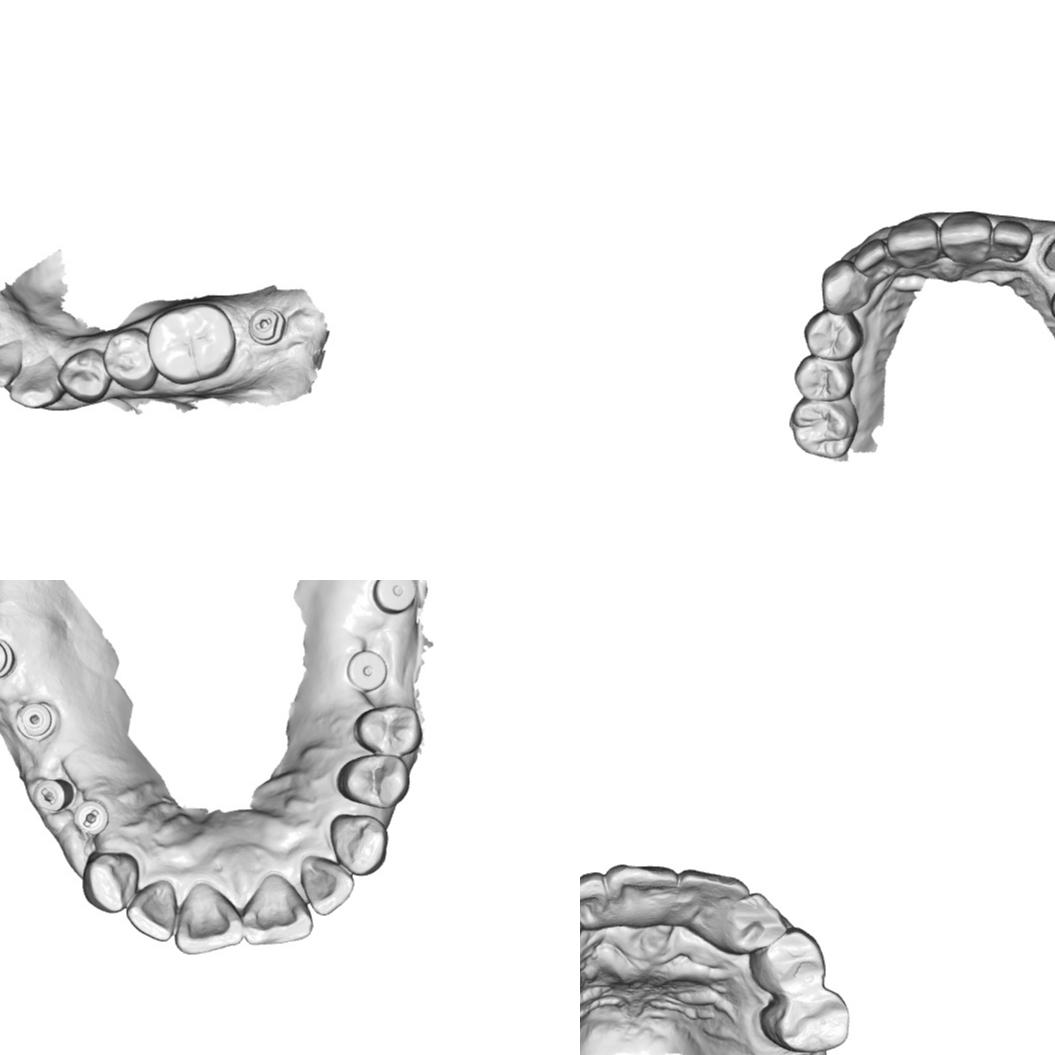canine: (751, 927, 827, 993), (327, 811, 391, 877), (80, 851, 142, 914), (7, 355, 61, 411), (820, 258, 871, 315)
crown: (1036, 230, 1055, 275)
implant: (344, 648, 390, 692), (371, 580, 417, 615), (14, 704, 56, 738), (0, 635, 19, 683)
implant_minus: (245, 304, 285, 346), (30, 776, 72, 816), (71, 798, 111, 836)
incisor: (605, 863, 680, 935), (240, 877, 313, 947), (172, 888, 243, 956), (676, 867, 750, 932), (719, 891, 787, 958), (124, 879, 181, 944), (298, 854, 355, 917), (885, 216, 942, 269), (939, 210, 992, 265), (991, 218, 1034, 264), (580, 870, 610, 932), (852, 238, 896, 280), (0, 341, 26, 389)
molar: (145, 302, 237, 386), (790, 392, 858, 460)
premolar: (757, 988, 853, 1054), (336, 751, 413, 810), (354, 704, 425, 758), (102, 325, 156, 393), (803, 308, 864, 361), (792, 353, 856, 402), (56, 346, 110, 404)
